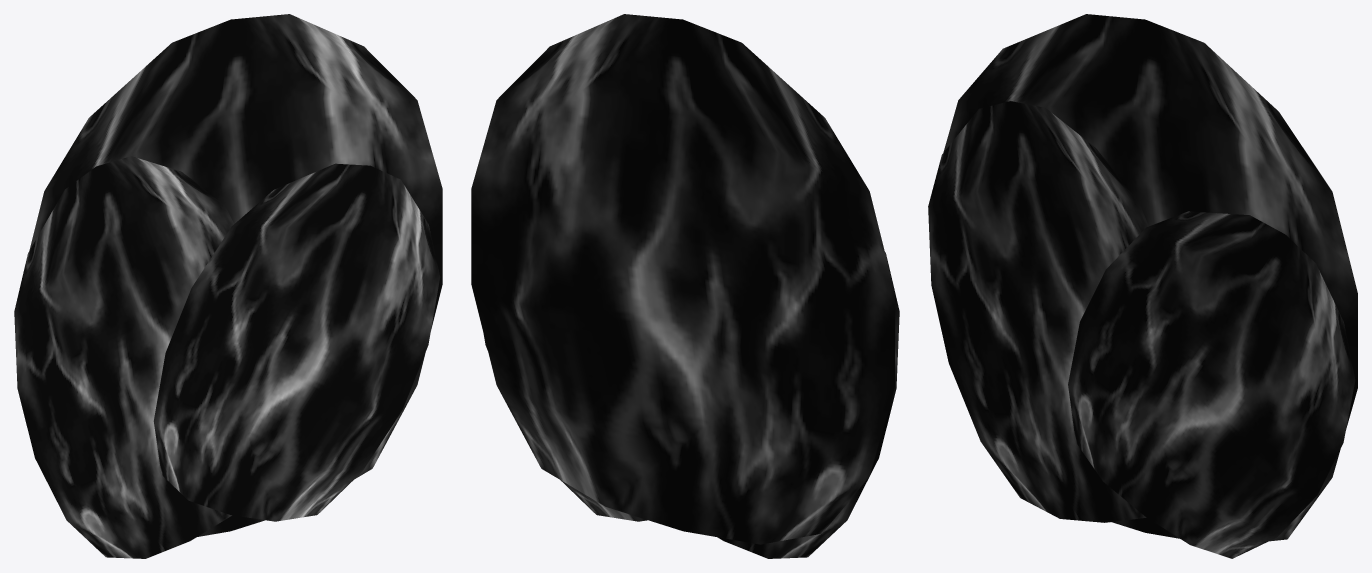
Rendered from NavigatorTalk2Dlg.fbx.
3 renders of one model, left to right at view 1: azimuth 30°, elevation 25°; view 2: azimuth 150°, elevation 25°; view 3: azimuth 330°, elevation 25°, orthographic.
Visible parts, largest first — view 1: Mesh_Aura04, Mesh_Aura03, Mesh_Aura01; view 2: Mesh_Aura01, Mesh_Aura03, Mesh_Aura04; view 3: Mesh_Aura04, Mesh_Aura03, Mesh_Aura01.
Part boxes in pixels (x1,y1,x2,y2): Mesh_Aura04: [153, 163, 440, 521]; Mesh_Aura03: [14, 156, 233, 558]; Mesh_Aura01: [29, 14, 442, 536]; Mesh_Aura01: [471, 14, 894, 544]; Mesh_Aura03: [718, 251, 899, 558]; Mesh_Aura04: [483, 334, 647, 521]; Mesh_Aura04: [1068, 211, 1355, 558]; Mesh_Aura03: [928, 101, 1148, 522]; Mesh_Aura01: [943, 14, 1357, 541].
Bounding box in the file's own units: 862 × 997 × 0.00108.
Materials: 1 (1 with a texture image).
